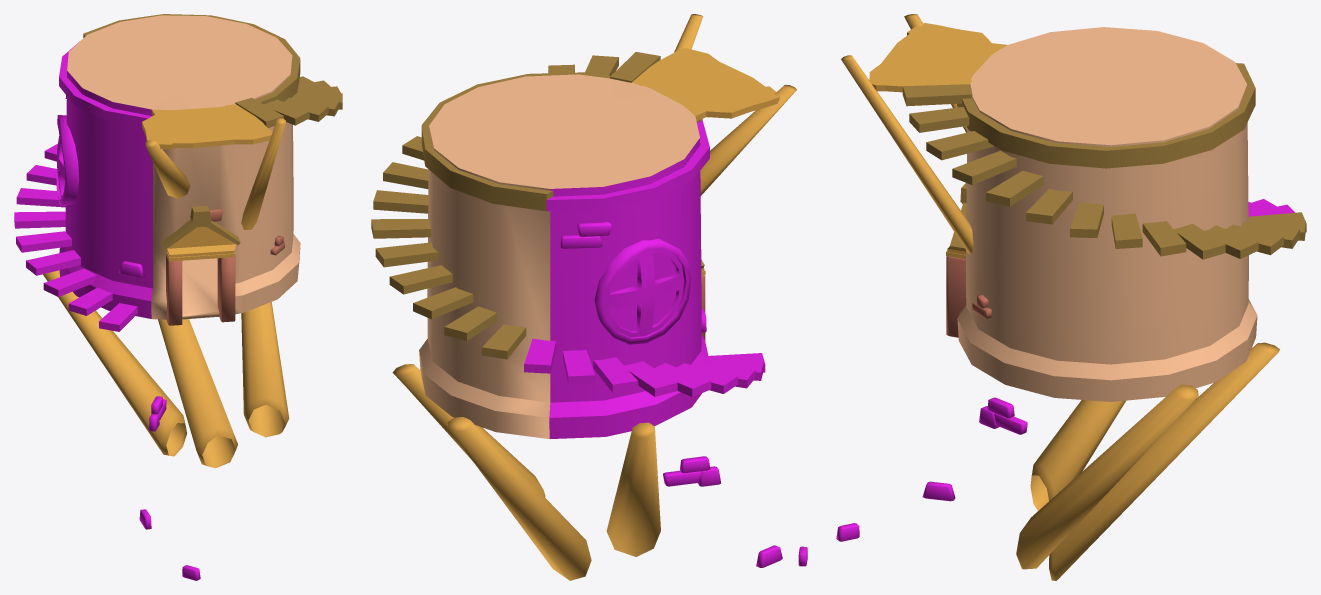
File: Despacho.fbx
3 views of the same model, side by side, from view 1: azimuth 30°, elevation 25°; view 2: azimuth 150°, elevation 25°; view 3: azimuth 270°, elevation 25° (orthographic). The views are drawn at different scales.
Parts seen in each view (by area): view 1: Base.004, Base.005, Plane.002, Palos.003, Palos.002, Palos.004, Balconazo.003, Plane.001, PuertaLadrillos.003, PuertaTechoBase.005, Ventana, Palos.006 (+5 smaller); view 2: Base.004, Base.005, Plane.001, Ventana, Plane.002, Palos.003, Balconazo.003, Palos.002, Remache, RemacheInvisible, Deco.003, Palos.005 (+1 smaller); view 3: Base.004, Plane.001, Palos.003, Palos.004, Remache, Balconazo.003, Palos.002, Palos.006, Deco.003, PuertaLadrillos.003.
Part boxes in pixels (x1=…): Base.004: x1=67, y1=15, x2=300, y2=319; Base.005: x1=59, y1=71, x2=152, y2=318; Plane.002: x1=14, y1=143, x2=137, y2=331; Palos.003: x1=158, y1=319, x2=237, y2=468; Palos.002: x1=43, y1=270, x2=186, y2=456; Palos.004: x1=241, y1=302, x2=289, y2=437; Balconazo.003: x1=142, y1=104, x2=272, y2=149; Plane.001: x1=235, y1=76, x2=342, y2=127; PuertaLadrillos.003: x1=166, y1=254, x2=235, y2=325; PuertaTechoBase.005: x1=166, y1=226, x2=235, y2=261; Ventana: x1=56, y1=115, x2=79, y2=206; Palos.006: x1=241, y1=118, x2=285, y2=229; Base.004: x1=419, y1=74, x2=699, y2=438; Base.005: x1=549, y1=138, x2=709, y2=438; Plane.001: x1=371, y1=52, x2=660, y2=359; Ventana: x1=594, y1=238, x2=691, y2=344; Plane.002: x1=524, y1=339, x2=765, y2=396; Palos.003: x1=447, y1=417, x2=591, y2=580; Balconazo.003: x1=632, y1=48, x2=779, y2=121; Palos.002: x1=606, y1=422, x2=660, y2=556; Remache: x1=421, y1=72, x2=702, y2=211; RemacheInvisible: x1=546, y1=120, x2=709, y2=211; Deco.003: x1=560, y1=221, x2=807, y2=567; Palos.005: x1=700, y1=84, x2=796, y2=195; Base.004: x1=957, y1=27, x2=1257, y2=401; Plane.001: x1=902, y1=84, x2=1306, y2=259; Palos.003: x1=1049, y1=342, x2=1279, y2=580; Palos.004: x1=1016, y1=384, x2=1198, y2=569; Remache: x1=957, y1=63, x2=1255, y2=168; Balconazo.003: x1=869, y1=23, x2=1007, y2=92; Palos.002: x1=1030, y1=400, x2=1125, y2=510; Palos.006: x1=841, y1=55, x2=973, y2=253; Deco.003: x1=836, y1=397, x2=1027, y2=541; PuertaLadrillos.003: x1=946, y1=256, x2=966, y2=337.
Bounding box in the file's own units: 1710 × 2505 × 1992.
